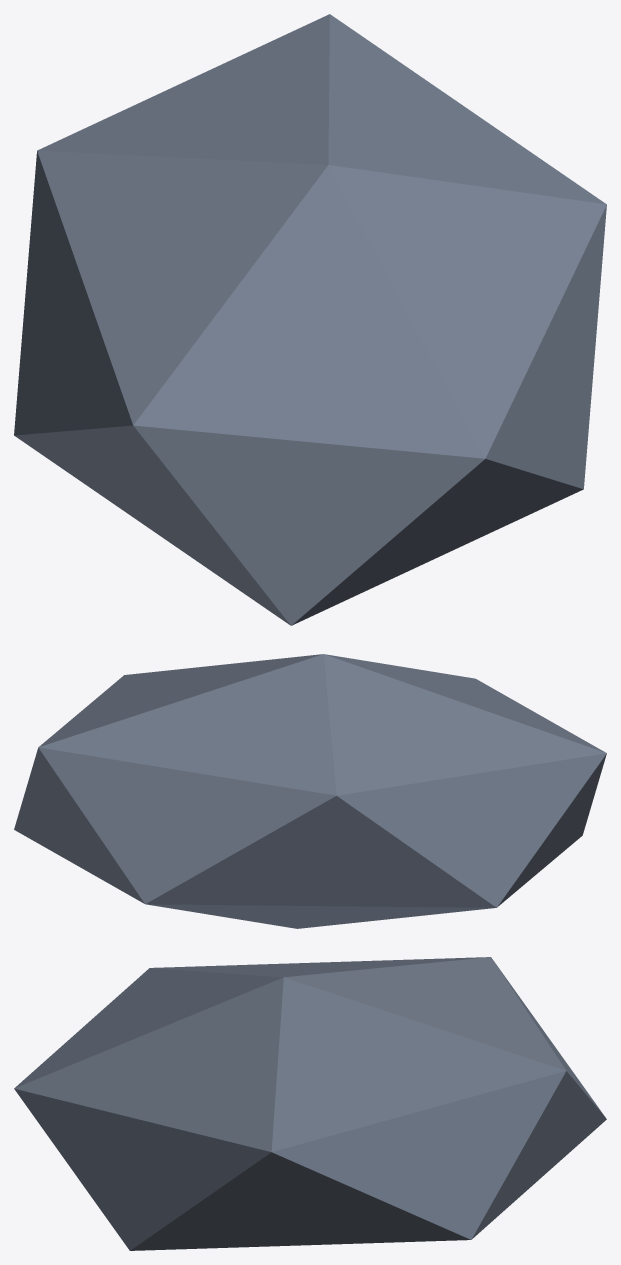
File: EXTG_MainEastStone_03.glb
3 views of the same model, one above another, from view 1: azimuth 30°, elevation 25°; view 2: azimuth 150°, elevation 25°; view 3: azimuth 270°, elevation 25° (orthographic). The views are drawn at different scales.
Visible parts, largest first — view 1: EXTG_MainEastStone_03; view 2: EXTG_MainEastStone_03; view 3: EXTG_MainEastStone_03.
Boxes of the visible parts, x1,y1,x2,y2 form: EXTG_MainEastStone_03: (14,14,606,625); EXTG_MainEastStone_03: (14,654,606,928); EXTG_MainEastStone_03: (14,957,606,1250).
Size of the model in its own units: 0.973 by 0.5501 by 1.17.
